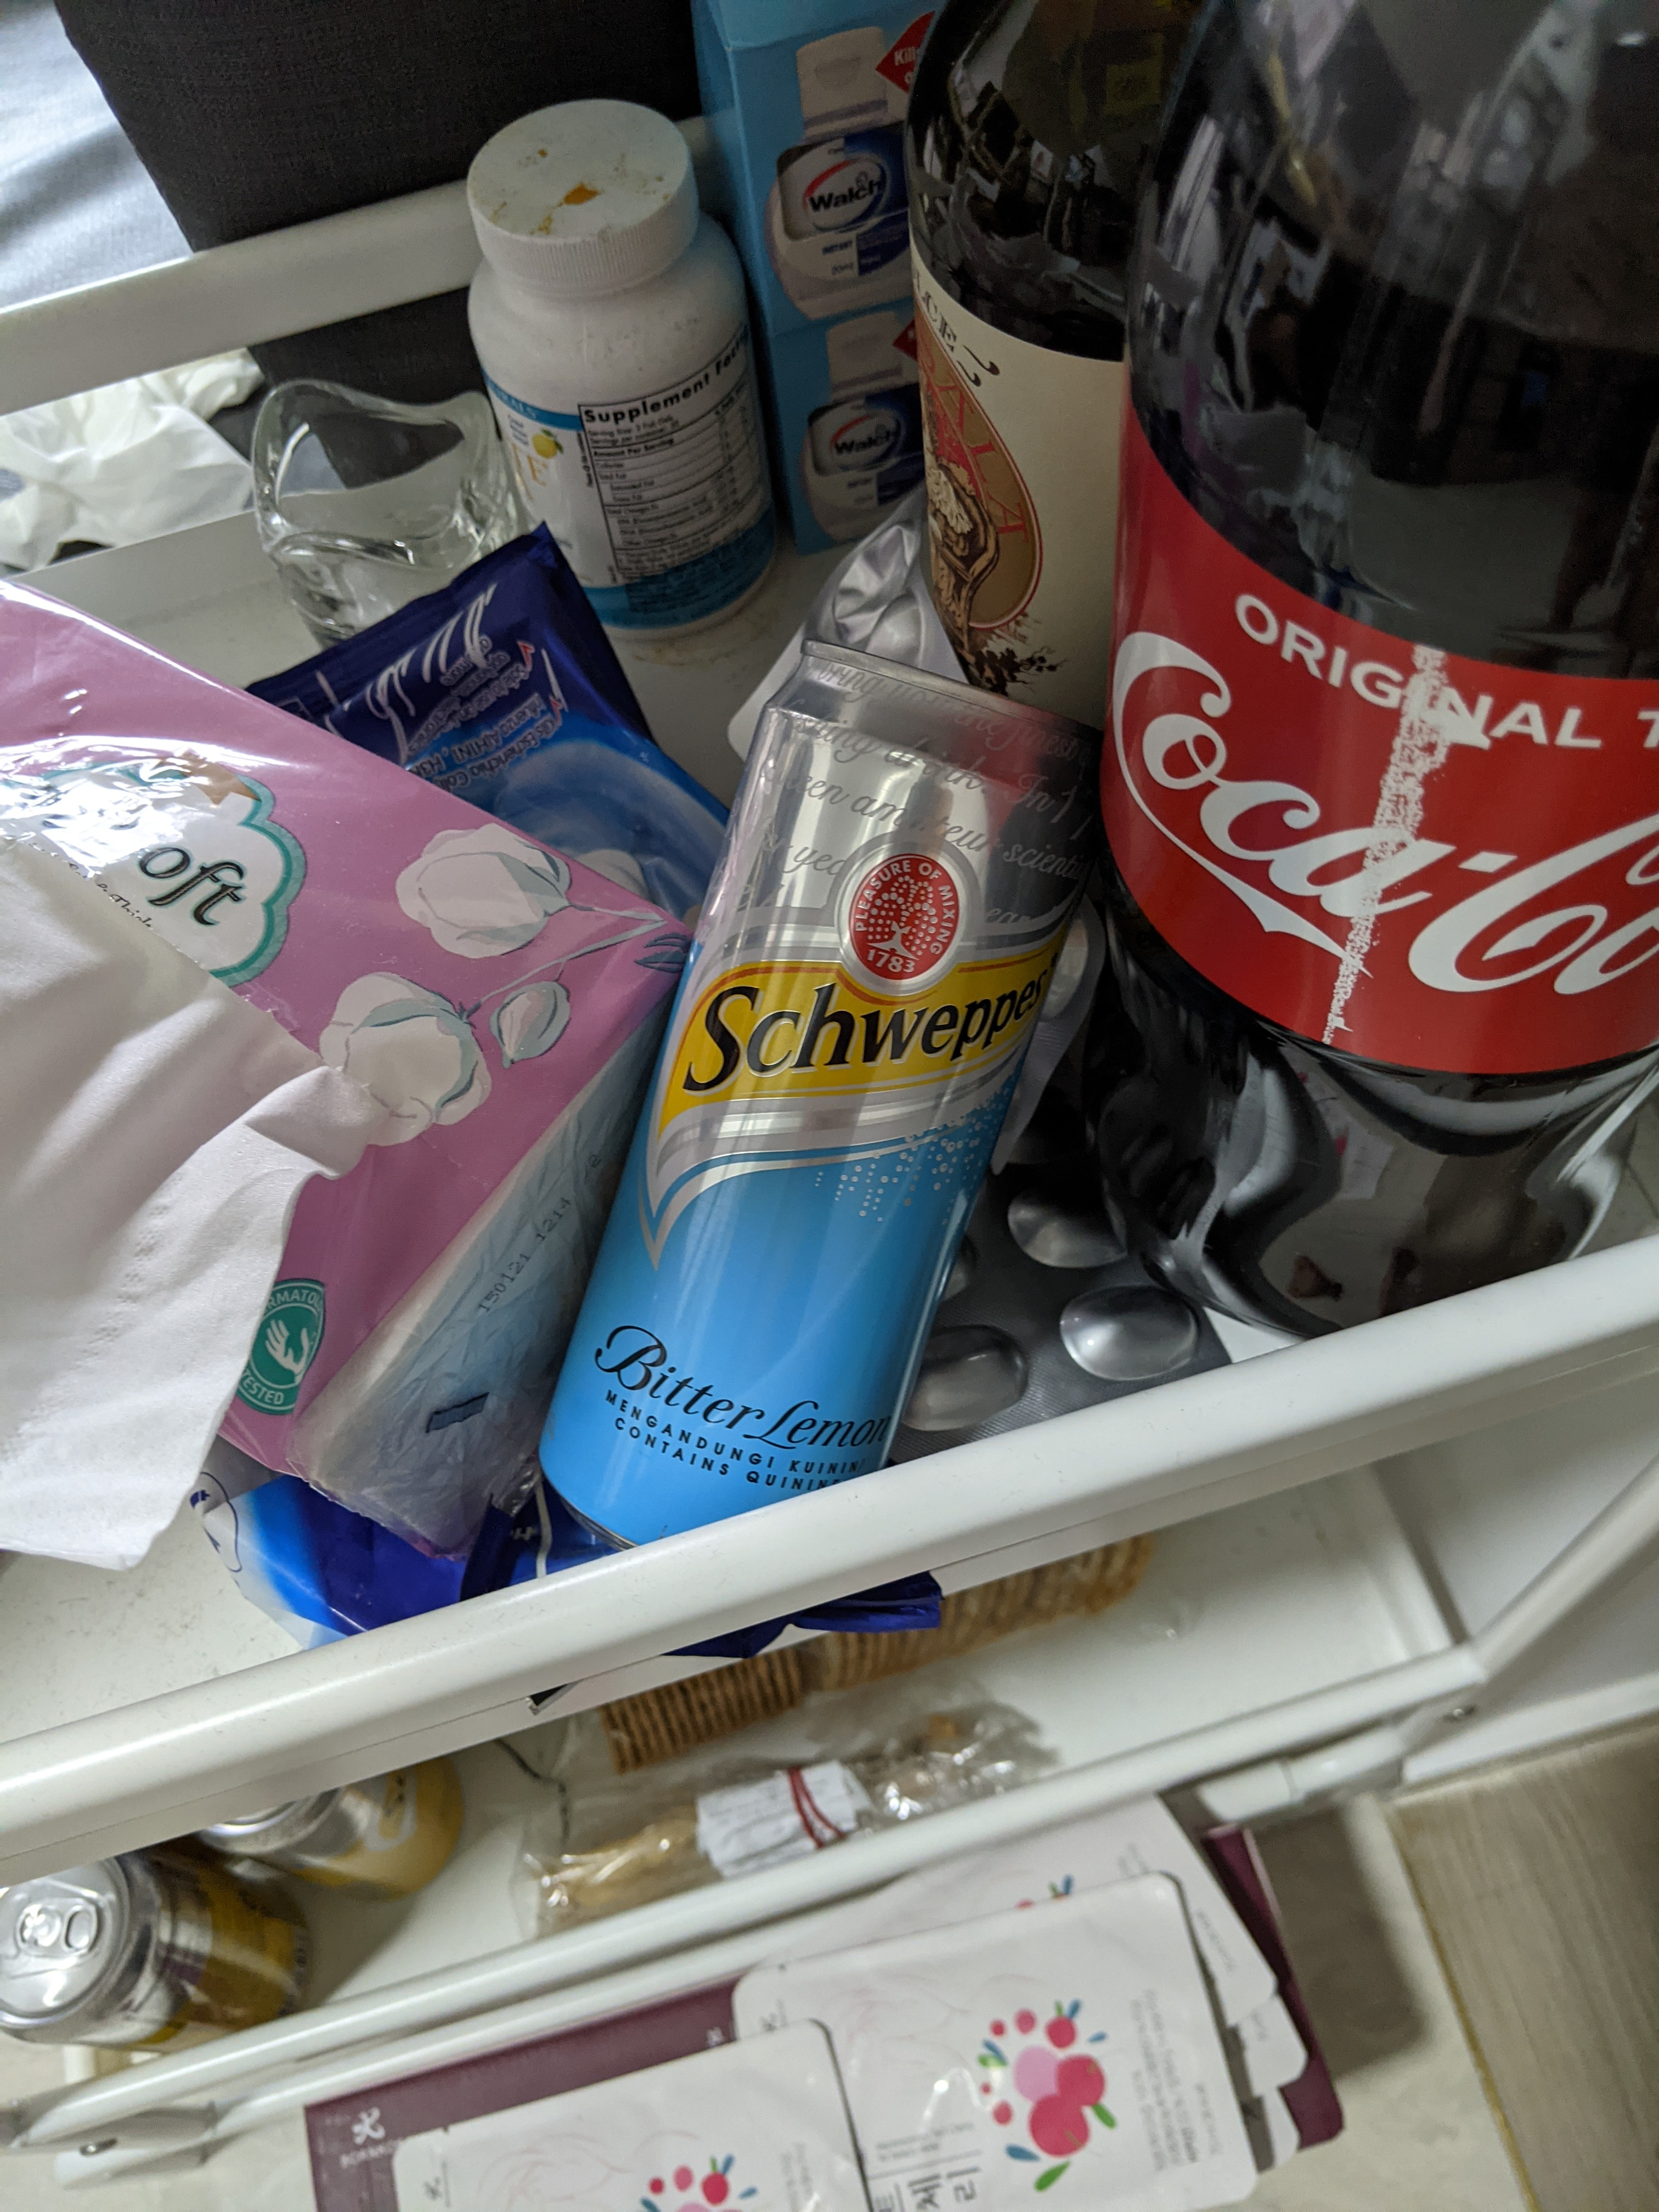schweppes drink can bitter lemon: (490, 575, 1138, 1644)
